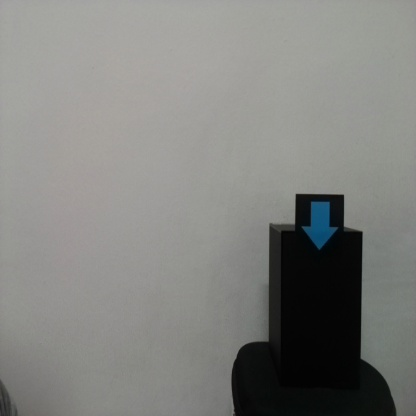id_2: (297, 194, 344, 264)
